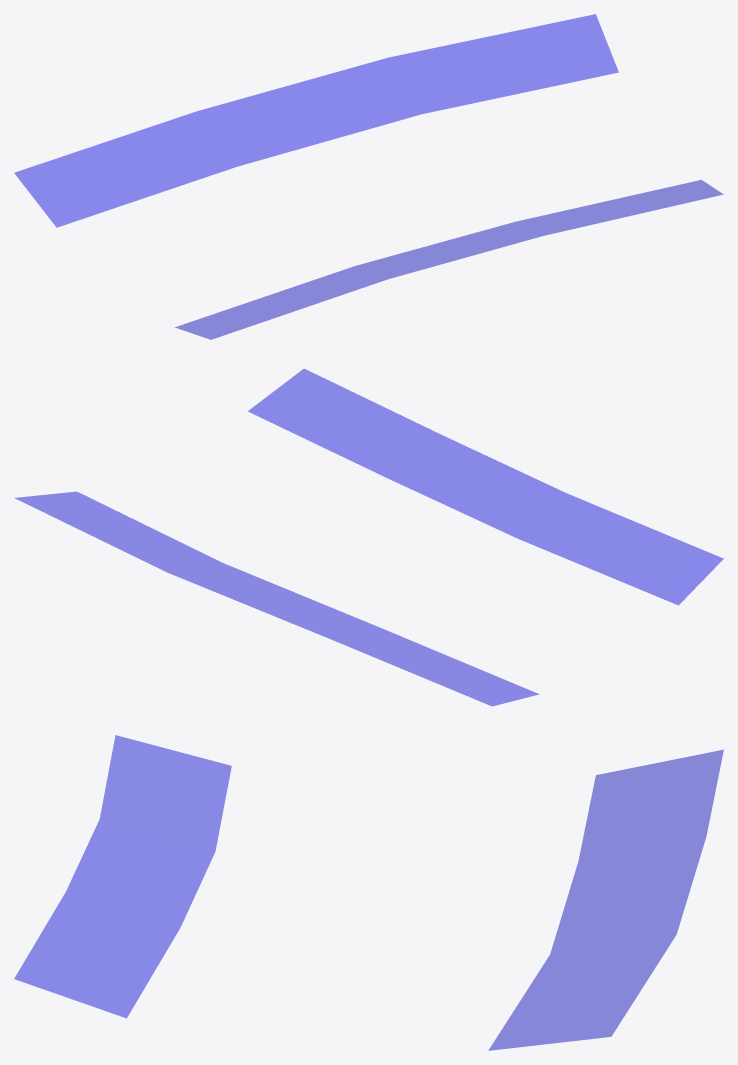
Rendered from track_la_coll_off_12.fbx.
3 renders of one model, top to bottom at view 1: azimuth 30°, elevation 25°; view 2: azimuth 150°, elevation 25°; view 3: azimuth 270°, elevation 25°, orthographic. The views are drawn at different scales.
Visible parts, largest first — view 1: track_la_coll_off_12; view 2: track_la_coll_off_12; view 3: track_la_coll_off_12.
Boxes of the visible parts, x1,y1,x2,y2 form: track_la_coll_off_12: [14, 14, 723, 339]; track_la_coll_off_12: [15, 369, 723, 706]; track_la_coll_off_12: [14, 735, 723, 1050].
Bounding box in the file's own units: 54.33 × 7.06 × 42.81.
